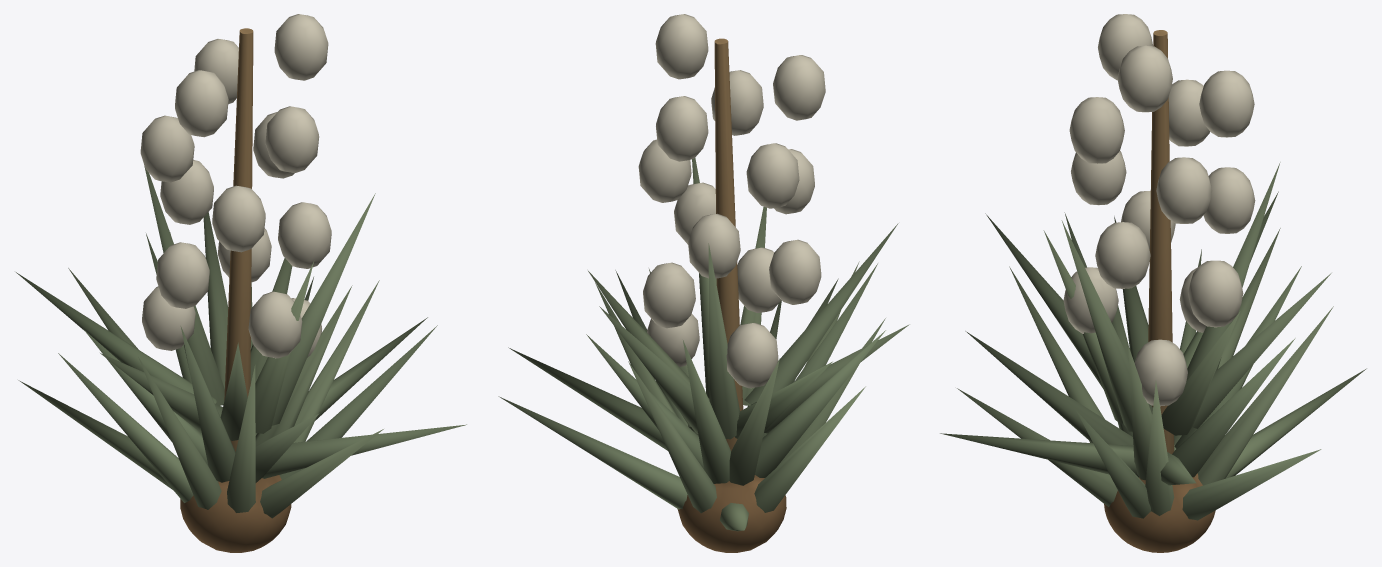
Rendered from yucca_a.glb.
3 renders of one model, left to right at view 1: azimuth 30°, elevation 25°; view 2: azimuth 150°, elevation 25°; view 3: azimuth 270°, elevation 25°, orthographic. The views are drawn at different scales.
Visible parts, largest first — view 1: Surface; view 2: Surface; view 3: Surface.
Boxes of the visible parts, box(x1,y1,x2,y2) form: Surface: box(16, 14, 466, 552); Surface: box(498, 14, 909, 552); Surface: box(940, 14, 1366, 552).
Bounding box in the file's own units: 1.75 × 2.35 × 1.72.
